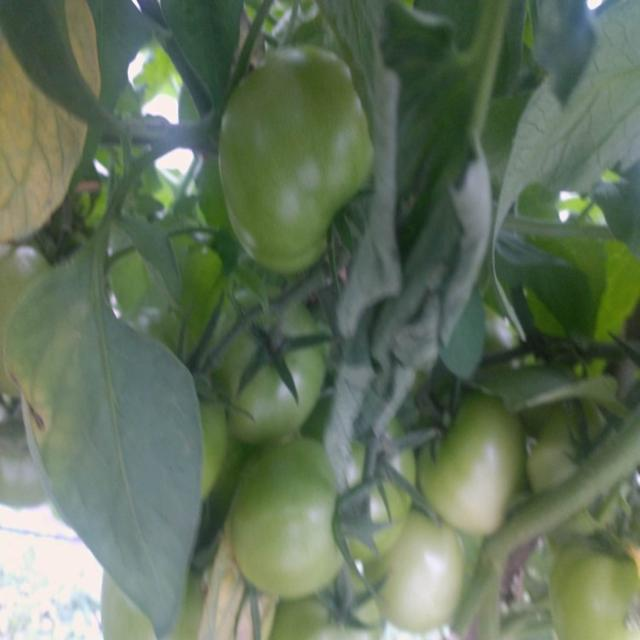tomato: (220, 44, 377, 264), (231, 435, 349, 594), (217, 296, 322, 439), (425, 381, 516, 535), (532, 398, 632, 531), (372, 505, 465, 626), (346, 413, 414, 549), (555, 539, 640, 640), (271, 569, 388, 640), (1, 410, 56, 511), (190, 387, 231, 489)
